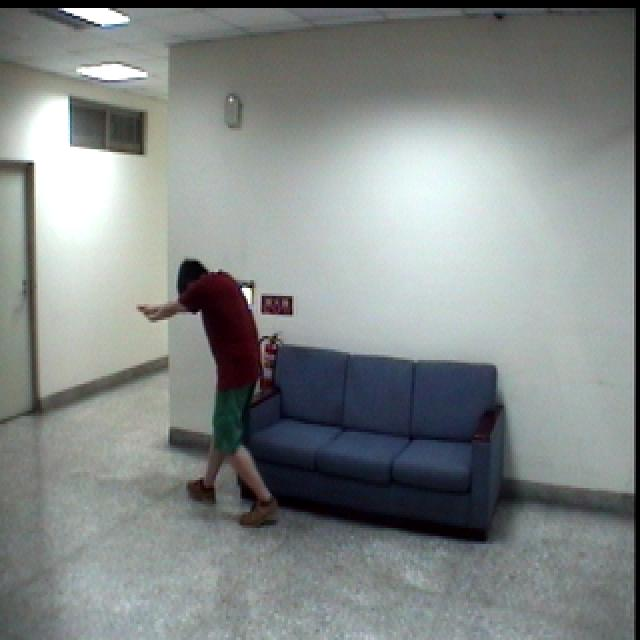bend: (127, 251, 286, 538)
